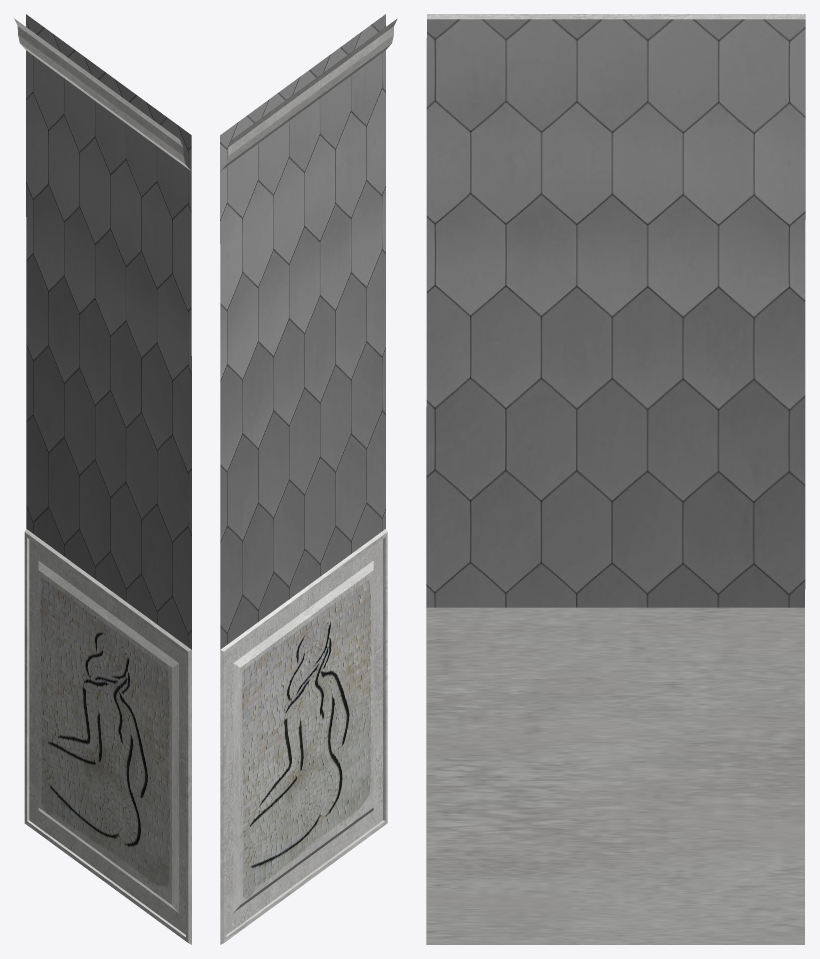
File: tier-2_deneme.fbx
3 renders of one model, left to right at view 1: azimuth 30°, elevation 25°; view 2: azimuth 150°, elevation 25°; view 3: azimuth 270°, elevation 25°, orthographic. The views are drawn at different scales.
Parts seen in each view (by area): view 1: tier-2; view 2: tier-2; view 3: tier-2.
Boxes of the visible parts, box(x1,y1,x2,y2) form: tier-2: box(14, 14, 191, 944); tier-2: box(220, 14, 397, 944); tier-2: box(426, 14, 805, 944).
Bounding box in the file's own units: 10.9 × 700 × 260.
1 material, 1 textured.
